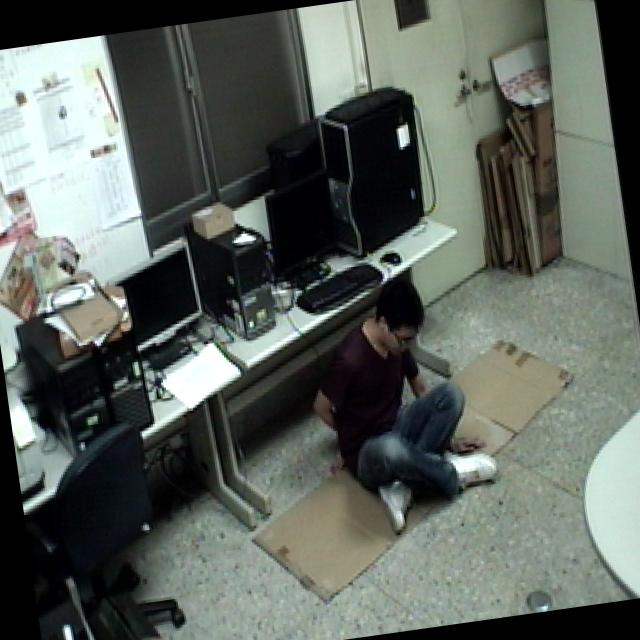sit: (292, 258, 509, 546)
